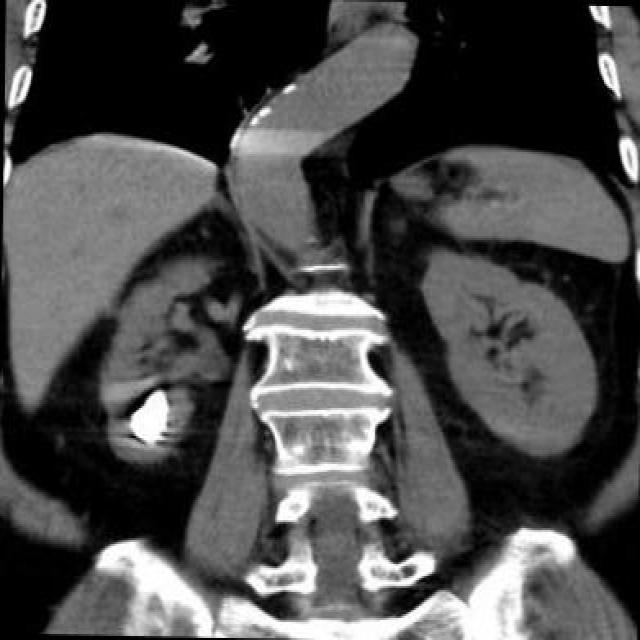Tas_Var: (114, 379, 186, 449)
